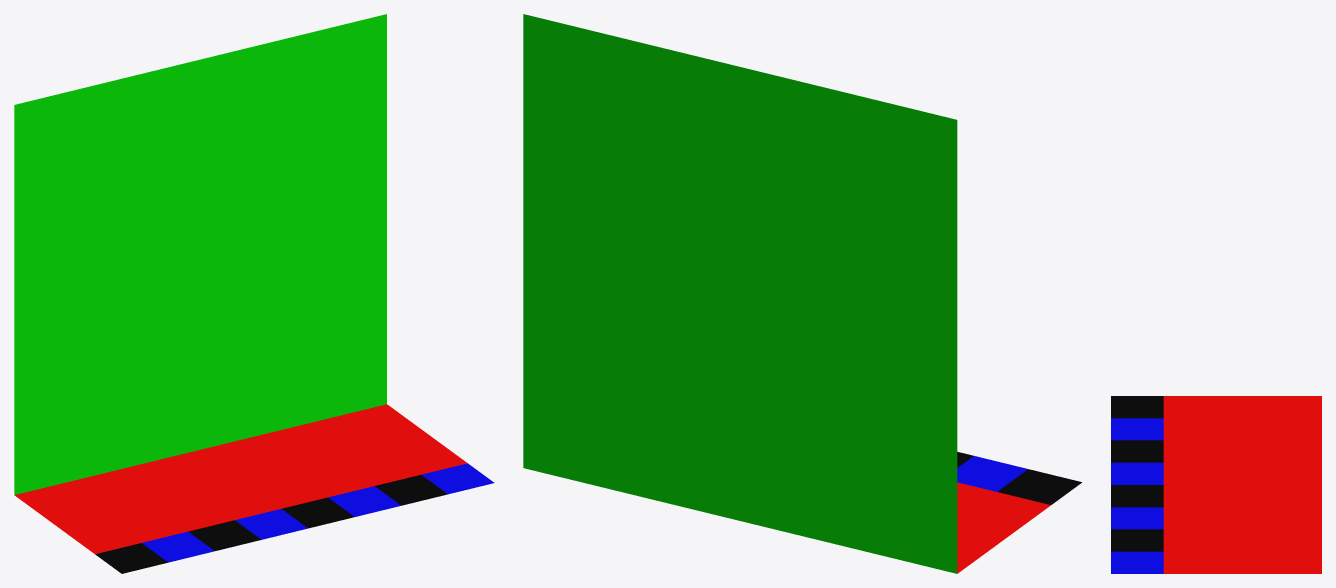
File: Wall_1x1_Smooth.fbx
The picture shows the model from 3 angles, left to right: view 1: azimuth 30°, elevation 25°; view 2: azimuth 150°, elevation 25°; view 3: azimuth 270°, elevation 25°; orthographic projection. The views are drawn at different scales.
Visible parts, largest first — view 1: Plane.010; view 2: Plane.010; view 3: Plane.010.
Part boxes in pixels (x1,y1,x2,y2): Plane.010: [14, 14, 494, 573]; Plane.010: [523, 14, 1081, 573]; Plane.010: [1111, 396, 1321, 573].
Size of the model in its own units: 1 by 1 by 0.5.
